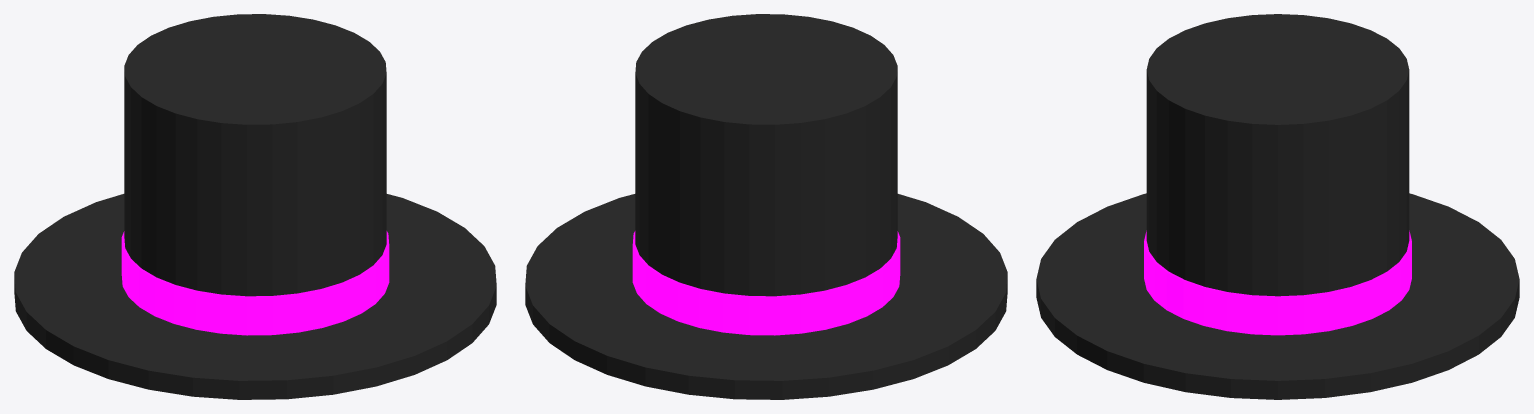
Rendered from SM_TaoXZen_WonderHat.glb.
The picture shows the model from 3 angles, left to right: view 1: azimuth 30°, elevation 25°; view 2: azimuth 150°, elevation 25°; view 3: azimuth 270°, elevation 25°; orthographic projection.
Visible parts, largest first — view 1: SM_TaoXZen_WonderHat; view 2: SM_TaoXZen_WonderHat; view 3: SM_TaoXZen_WonderHat.
Part boxes in pixels (x1=…): SM_TaoXZen_WonderHat: x1=14, y1=14, x2=496, y2=399; SM_TaoXZen_WonderHat: x1=525, y1=14, x2=1007, y2=399; SM_TaoXZen_WonderHat: x1=1036, y1=14, x2=1519, y2=399.
Bounding box in the file's own units: 0.92 × 0.48 × 0.92.
